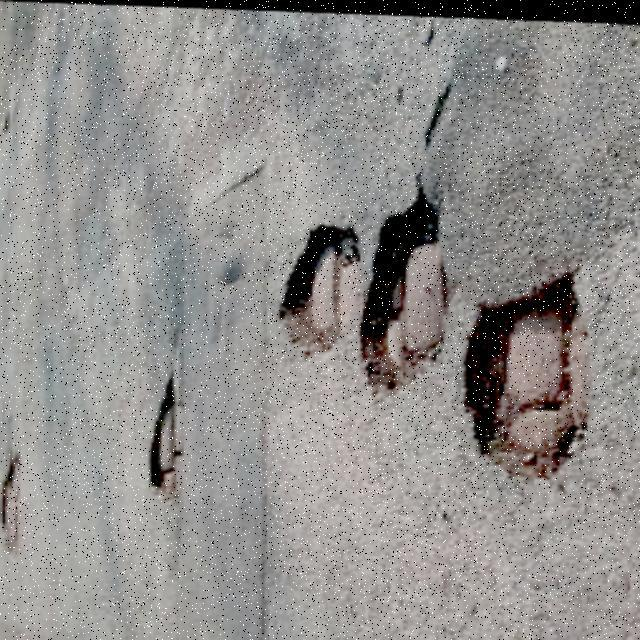pothole: (454, 260, 592, 482), (350, 174, 456, 400), (267, 212, 368, 358), (136, 351, 186, 504), (0, 448, 28, 558)
